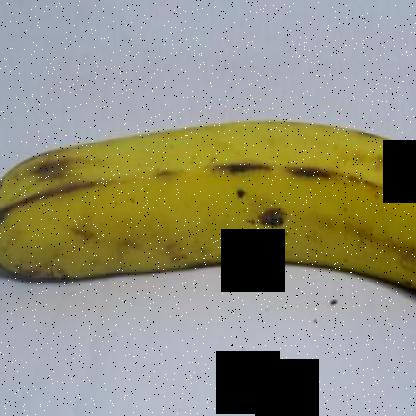ripe: (1, 82, 415, 341)
